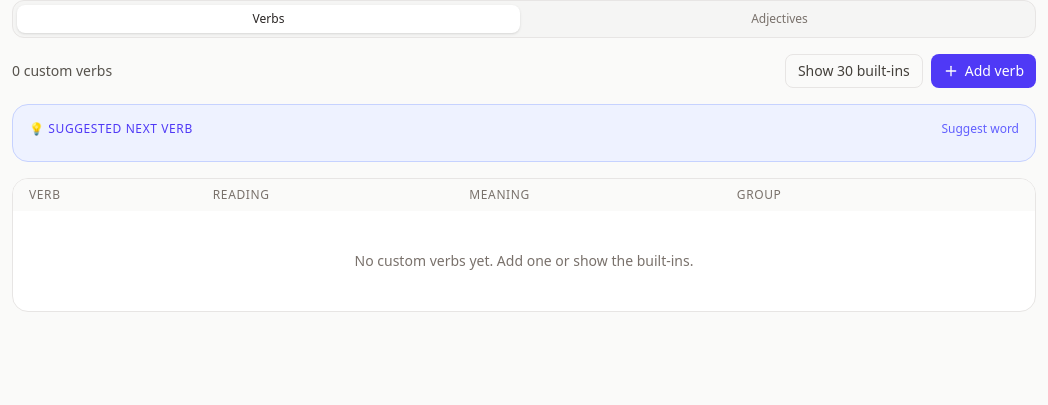
Test: CustomDictionaryViewSub suggestions › does not automatically fetch another suggestion after adding the displayed one
Click the button "Suggest word": (980, 129) 942,121 -> 1019,137
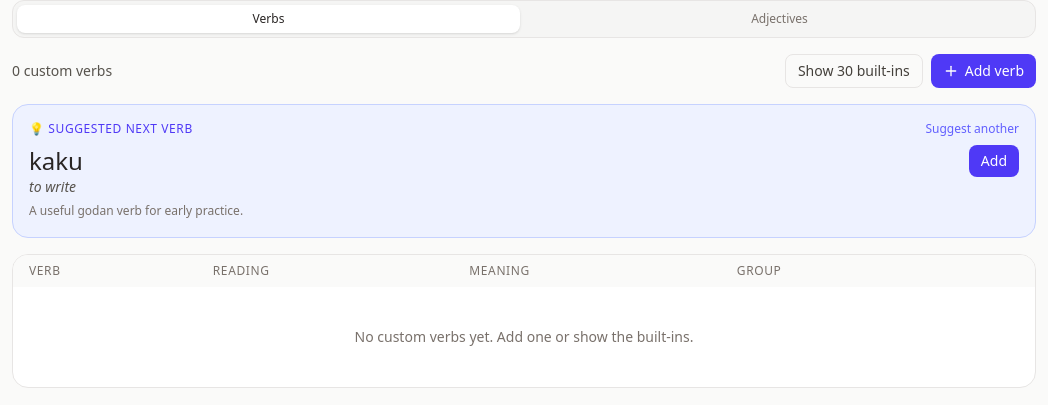
Now the text "A useful godan verb for early practice." is shown, box 29,202 -> 243,219
Click the button "Add": (994, 161) 969,145 -> 1019,177
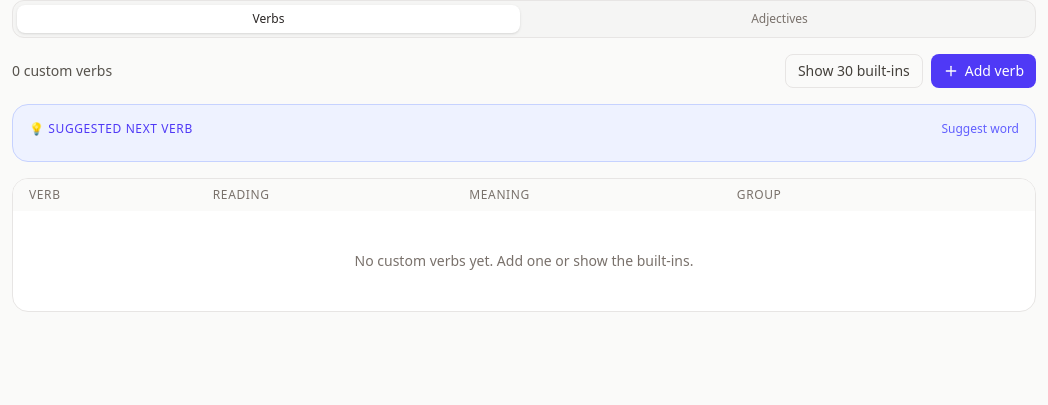
Now the text "A useful godan verb for early practice." is gone
